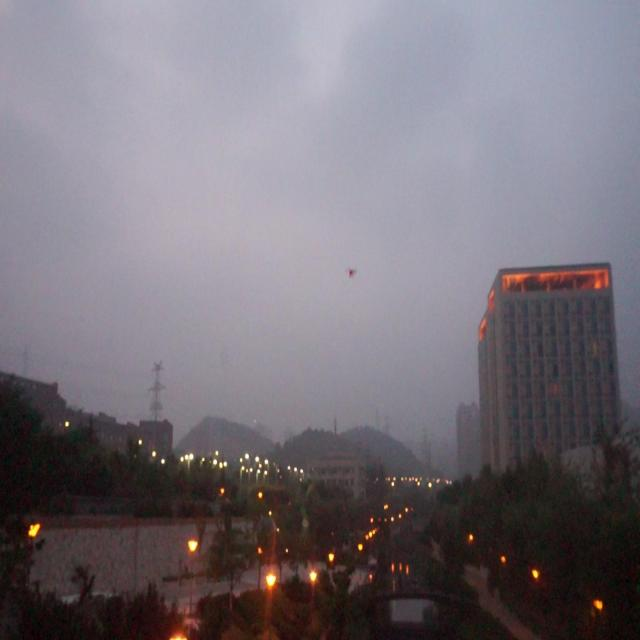drone: (344, 264, 357, 280)
